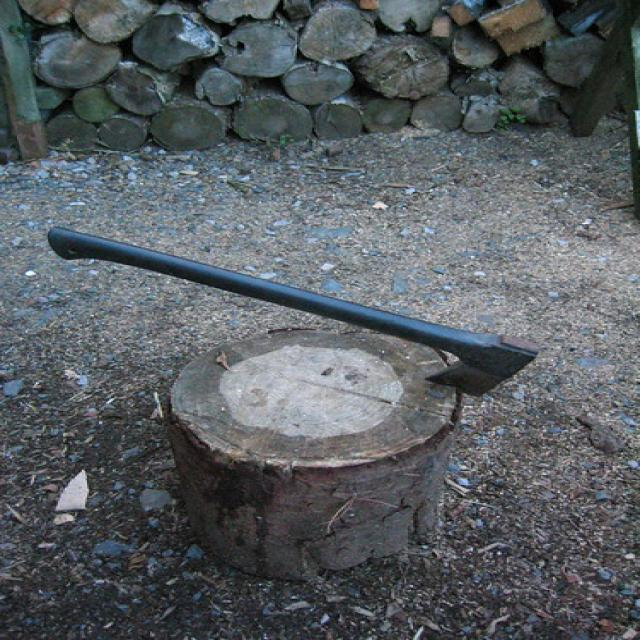Axe: (48, 228, 539, 394)
